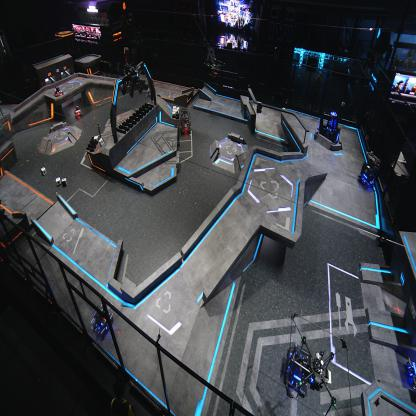car: (284, 343, 310, 396), (358, 150, 382, 189), (90, 301, 113, 337), (178, 106, 192, 134), (406, 354, 415, 392), (53, 83, 64, 98), (73, 102, 82, 118)
